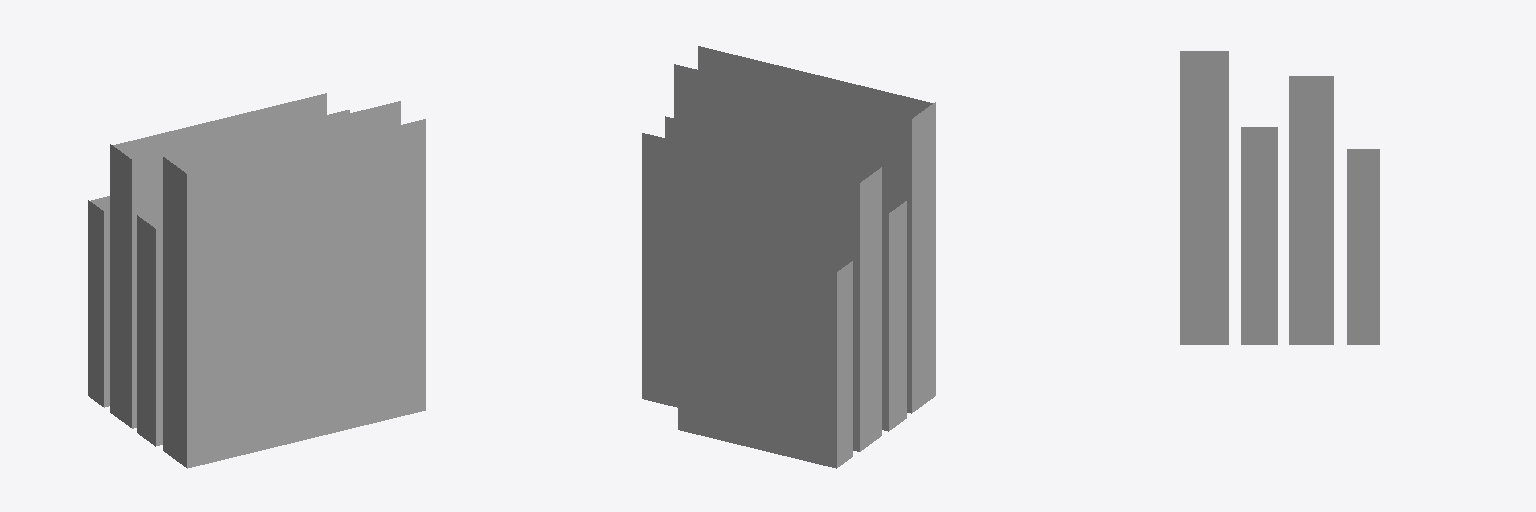
The model's file is books__24.obj.
3 renders of one model, left to right at view 1: azimuth 30°, elevation 25°; view 2: azimuth 150°, elevation 25°; view 3: azimuth 270°, elevation 25°, orthographic.
Parts seen in each view (by area): view 1: grp24; view 2: grp24; view 3: grp24.
Boxes of the visible parts, x1,y1,x2,y2 form: grp24: [88, 93, 425, 468]; grp24: [642, 46, 935, 468]; grp24: [1180, 51, 1379, 344].
Bounding box in the file's own units: 171 × 201 × 123.